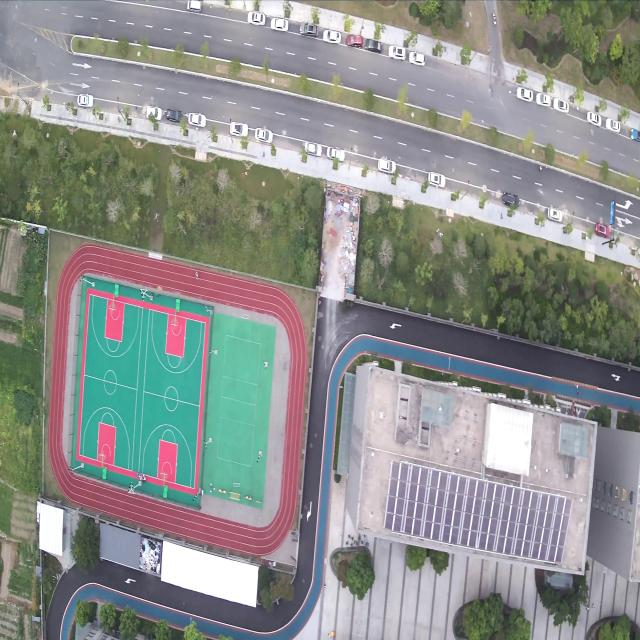UAV: (153, 212, 160, 222)
